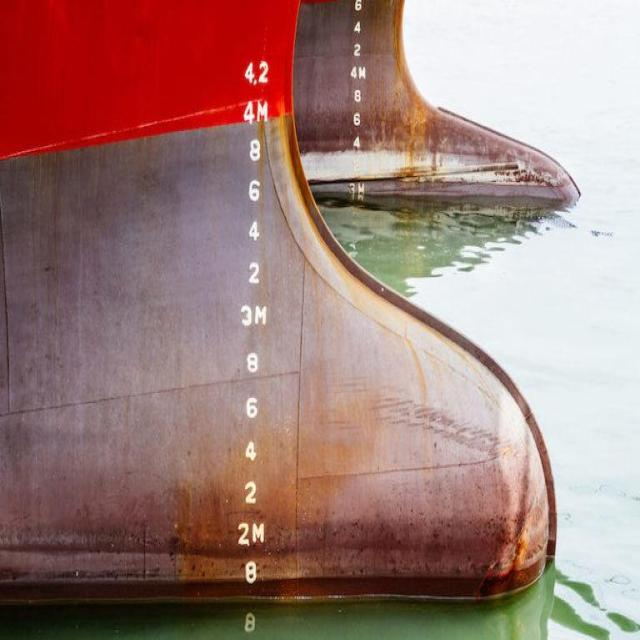Ship Draft Marks: (238, 522, 250, 546), (245, 561, 258, 583), (248, 262, 260, 284), (252, 523, 264, 545), (249, 180, 260, 203), (257, 101, 268, 123), (255, 305, 266, 327), (245, 482, 256, 504), (244, 101, 254, 125), (250, 140, 260, 164), (248, 220, 260, 240), (241, 305, 252, 326), (247, 353, 258, 373), (246, 398, 257, 418), (245, 441, 256, 461), (244, 62, 254, 83), (260, 61, 268, 82), (353, 21, 361, 35), (358, 66, 366, 80), (354, 112, 361, 126), (354, 0, 362, 12), (353, 159, 361, 171), (354, 44, 361, 57), (354, 90, 361, 103), (358, 182, 365, 195), (354, 136, 360, 150), (348, 183, 355, 195), (350, 66, 356, 78)
